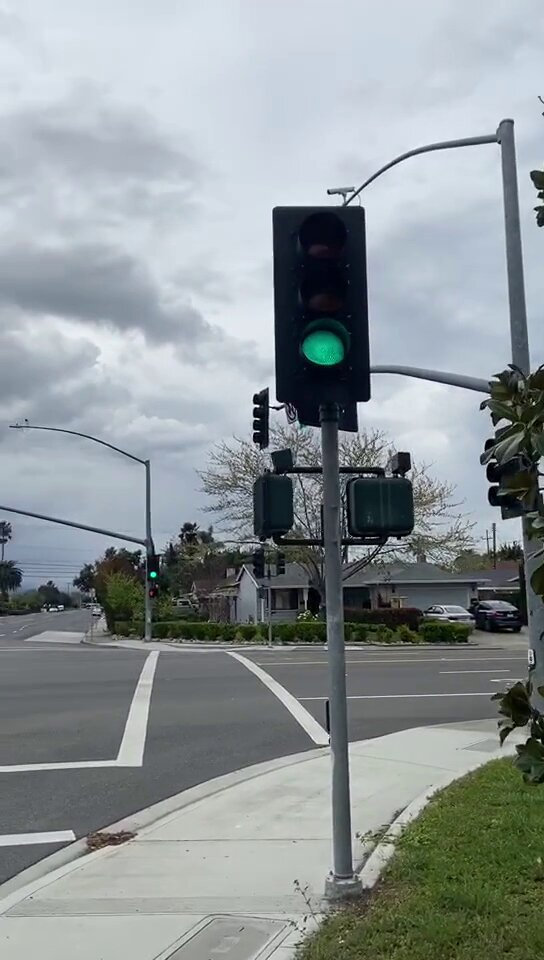green_light: (275, 210, 371, 398), (148, 553, 157, 583)
